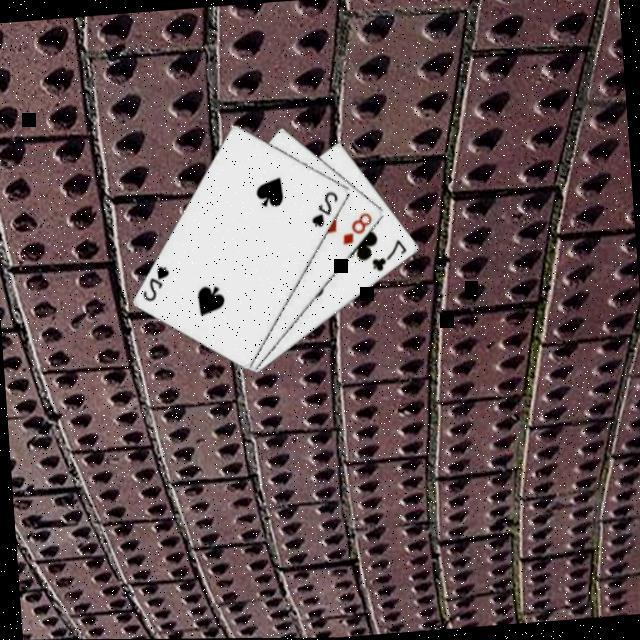2S: (304, 188, 340, 230), (136, 263, 172, 305)
7C: (366, 237, 410, 276)
8D: (336, 210, 374, 248)
